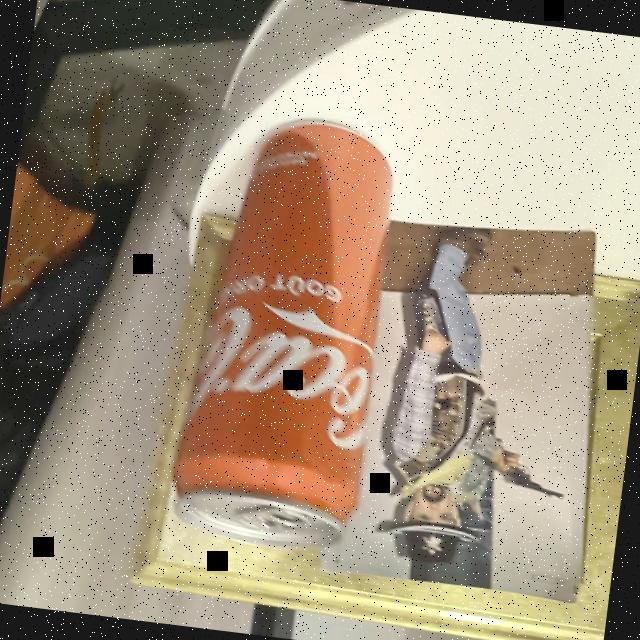can: (157, 103, 416, 575)
